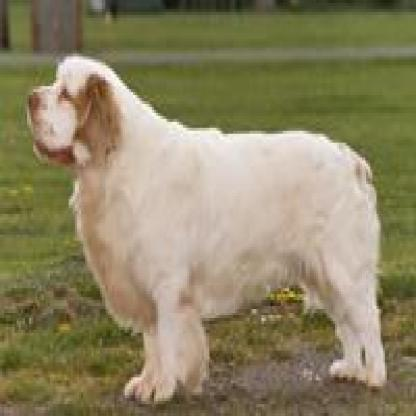clumber: (19, 48, 385, 398)
